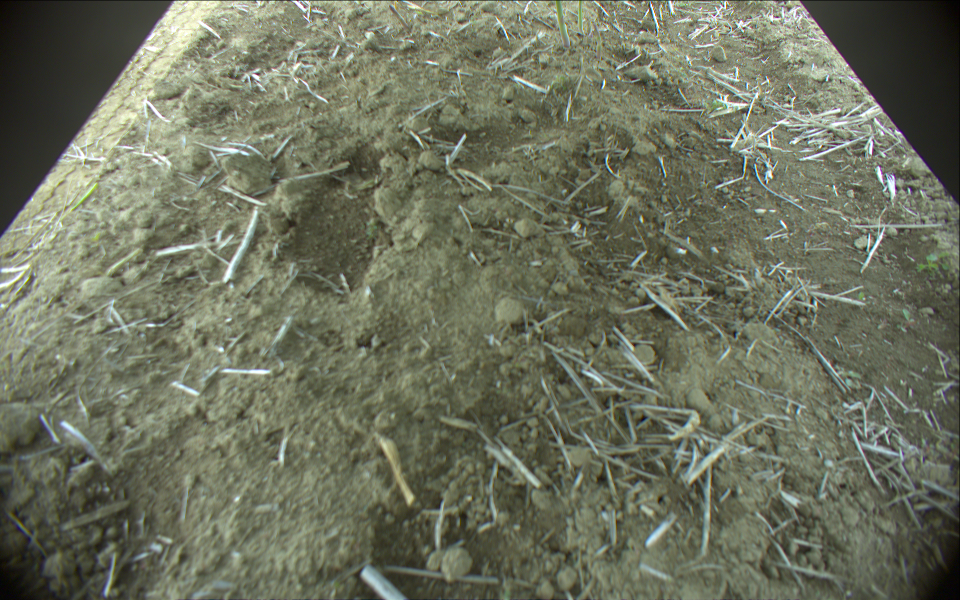aspa: (552, 1, 571, 47), (70, 184, 97, 216), (388, 4, 410, 30), (575, 1, 588, 35)
